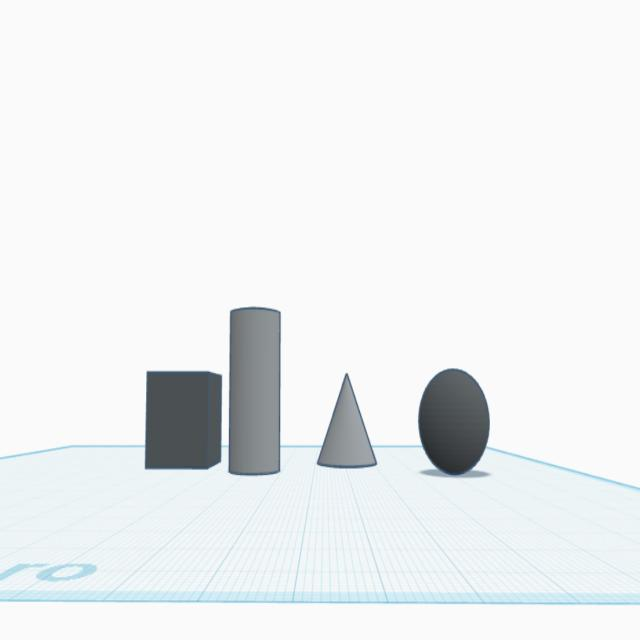cone: (314, 369, 380, 468)
cube: (140, 360, 224, 476)
sphere: (416, 368, 491, 476)
